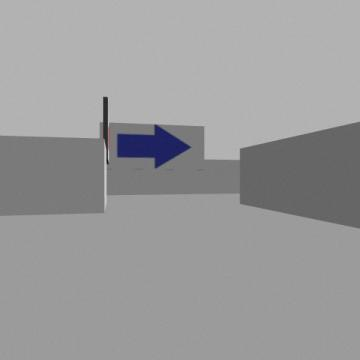blue_right: (117, 124, 190, 168)
